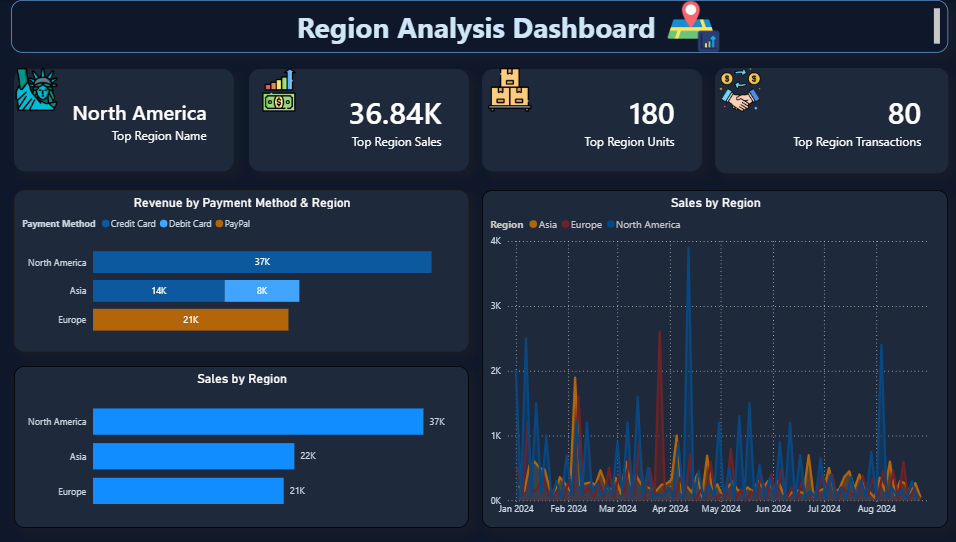

This screenshot's page, from the dashboard's own definition file:
{"tool":"powerbi","page":{"name":"Region Analysis Dashboard","canvas":[1280,720],"ordinal":2},"visuals":[{"type":"textbox","box":[18.3,0,1245,70],"z":0},{"type":"cardVisual","fields":{"Data":["Date.Top Region Transactions"]},"box":[953.8,89.7,309.7,140.4],"z":0,"group":"g1"},{"type":"cardVisual","fields":{"Data":["Date.Top Region Units"]},"box":[644.1,91.1,291.8,136.3],"z":1000,"group":"g1"},{"type":"barChart","title":"Sales by Region","fields":{"Category":["Online Sales Data.Region"],"Y":["Date.Total Sales"]},"box":[22,485.8,604.2,214.7],"z":1000},{"type":"group","id":"g1","title":"Group 1","box":[22,89.7,1241.4,140.4],"z":2000},{"type":"cardVisual","fields":{"Data":["Date.Top Region Sales"]},"box":[334.2,91.1,291.8,136.3],"z":2000,"group":"g1"},{"type":"cardVisual","fields":{"Data":["Date.Top Region Name"]},"box":[22,90.9,291.8,136.3],"z":3000,"group":"g1"},{"type":"areaChart","title":"Sales by Region","fields":{"Category":["Online Sales Data.Date"],"Y":["Date.Total Sales"],"Series":["Online Sales Data.Region"]},"box":[644.1,251.9,619.4,448.7],"z":3000},{"type":"barChart","title":"Revenue by Payment Method & Region","fields":{"Category":["Online Sales Data.Region"],"Y":["Date.Total Sales"],"Series":["Online Sales Data.Payment Method"]},"box":[22,251.9,604.2,214.7],"z":4000},{"type":"image","box":[22,90.8,59.2,57.8],"z":5000},{"type":"image","box":[334.5,90.8,79.8,57.8],"z":6000},{"type":"image","box":[953.8,90.8,67.4,57.8],"z":7000},{"type":"image","box":[644.1,90.8,74.3,57.8],"z":8000},{"type":"image","box":[876.1,0,97,70.1],"z":9000}]}

Visuals, with their boxes in screenshot pixels (x1, y1, x2, y2), scaled from the page's 1280x720 canvas onto the 956x542 screenshot:
textbox: select_region(14, 0, 944, 53)
cardVisual - Date.Top Region Transactions: select_region(712, 68, 944, 173)
cardVisual - Date.Top Region Units: select_region(481, 69, 699, 171)
"Sales by Region" barChart: select_region(16, 366, 468, 527)
"Group 1" group: select_region(16, 68, 944, 173)
cardVisual - Date.Top Region Sales: select_region(250, 69, 468, 171)
cardVisual - Date.Top Region Name: select_region(16, 68, 234, 171)
"Sales by Region" areaChart: select_region(481, 190, 944, 527)
"Revenue by Payment Method & Region" barChart: select_region(16, 190, 468, 351)
image: select_region(16, 68, 61, 112)
image: select_region(250, 68, 309, 112)
image: select_region(712, 68, 763, 112)
image: select_region(481, 68, 537, 112)
image: select_region(654, 0, 727, 53)
